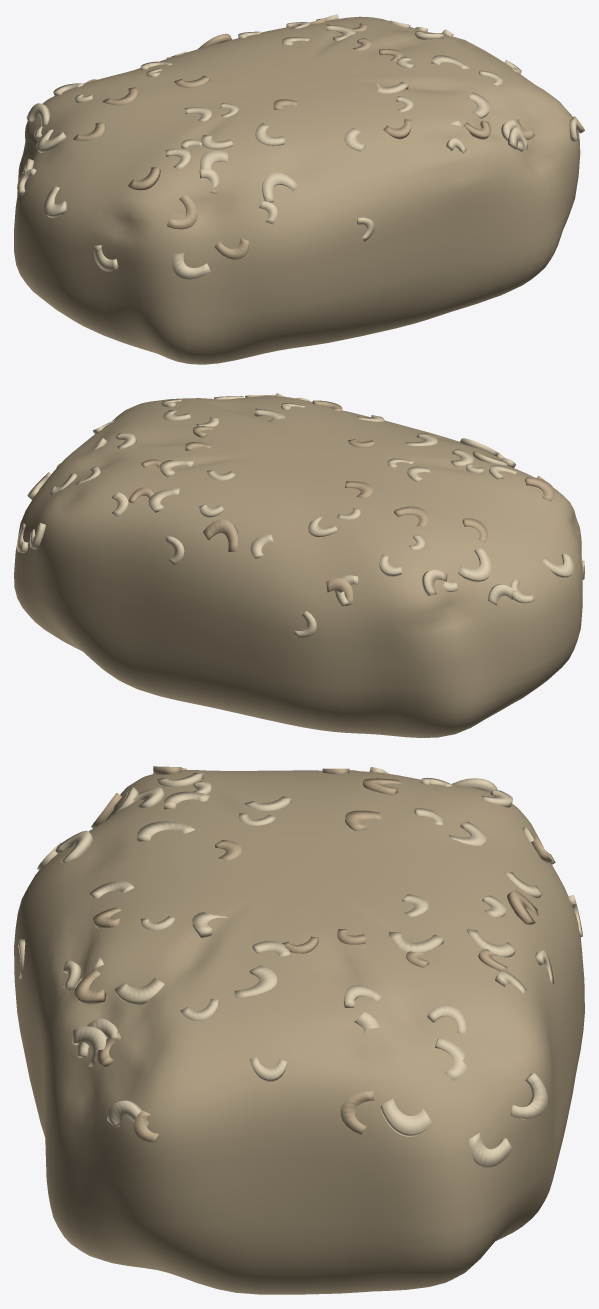
Rendered from coquina-outcrop.glb.
3 renders of one model, top to bottom at view 1: azimuth 30°, elevation 25°; view 2: azimuth 150°, elevation 25°; view 3: azimuth 270°, elevation 25°, orthographic. The views are drawn at different scales.
Parts seen in each view (by area): view 1: continuous-lithified-porous-shell-rock-matrix, embedded-broken-shell-arcs-and-exposed-cross-sections; view 2: continuous-lithified-porous-shell-rock-matrix, embedded-broken-shell-arcs-and-exposed-cross-sections; view 3: continuous-lithified-porous-shell-rock-matrix, embedded-broken-shell-arcs-and-exposed-cross-sections.
Boxes of the visible parts, <box> form: continuous-lithified-porous-shell-rock-matrix: <box>14,16,580,364</box>; embedded-broken-shell-arcs-and-exposed-cross-sections: <box>17,14,584,279</box>; continuous-lithified-porous-shell-rock-matrix: <box>14,396,582,737</box>; embedded-broken-shell-arcs-and-exposed-cross-sections: <box>16,393,584,637</box>; continuous-lithified-porous-shell-rock-matrix: <box>14,770,584,1294</box>; embedded-broken-shell-arcs-and-exposed-cross-sections: <box>18,766,582,1167</box>.
Bounding box in the file's own units: 0.8227 × 0.353 × 0.5708.
